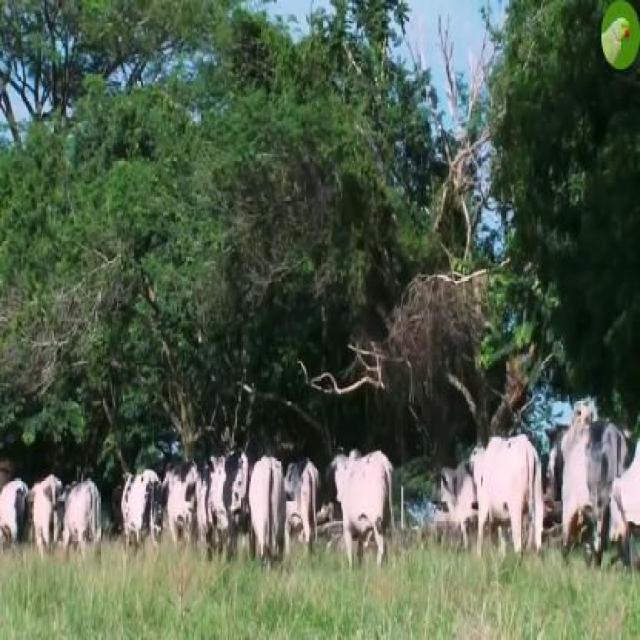Cow: (470, 436, 544, 570)
